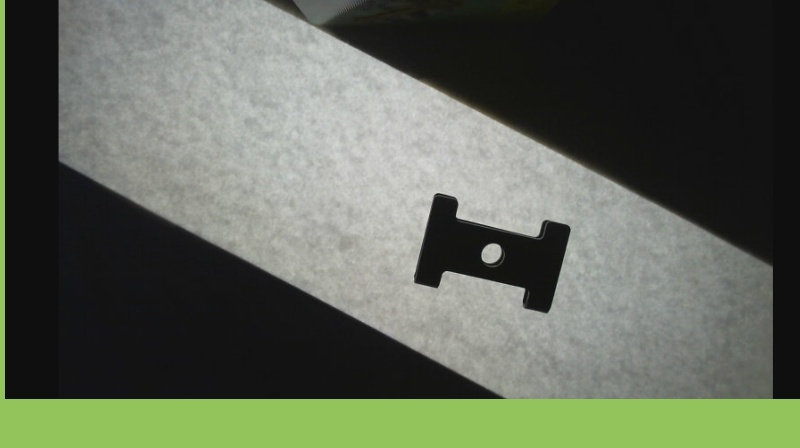O002: (407, 187, 573, 316)
